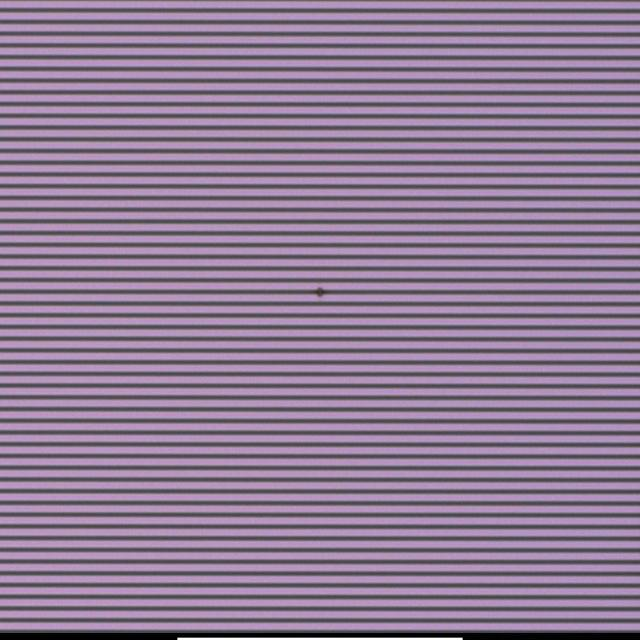03_intrusion: (314, 284, 328, 301)
